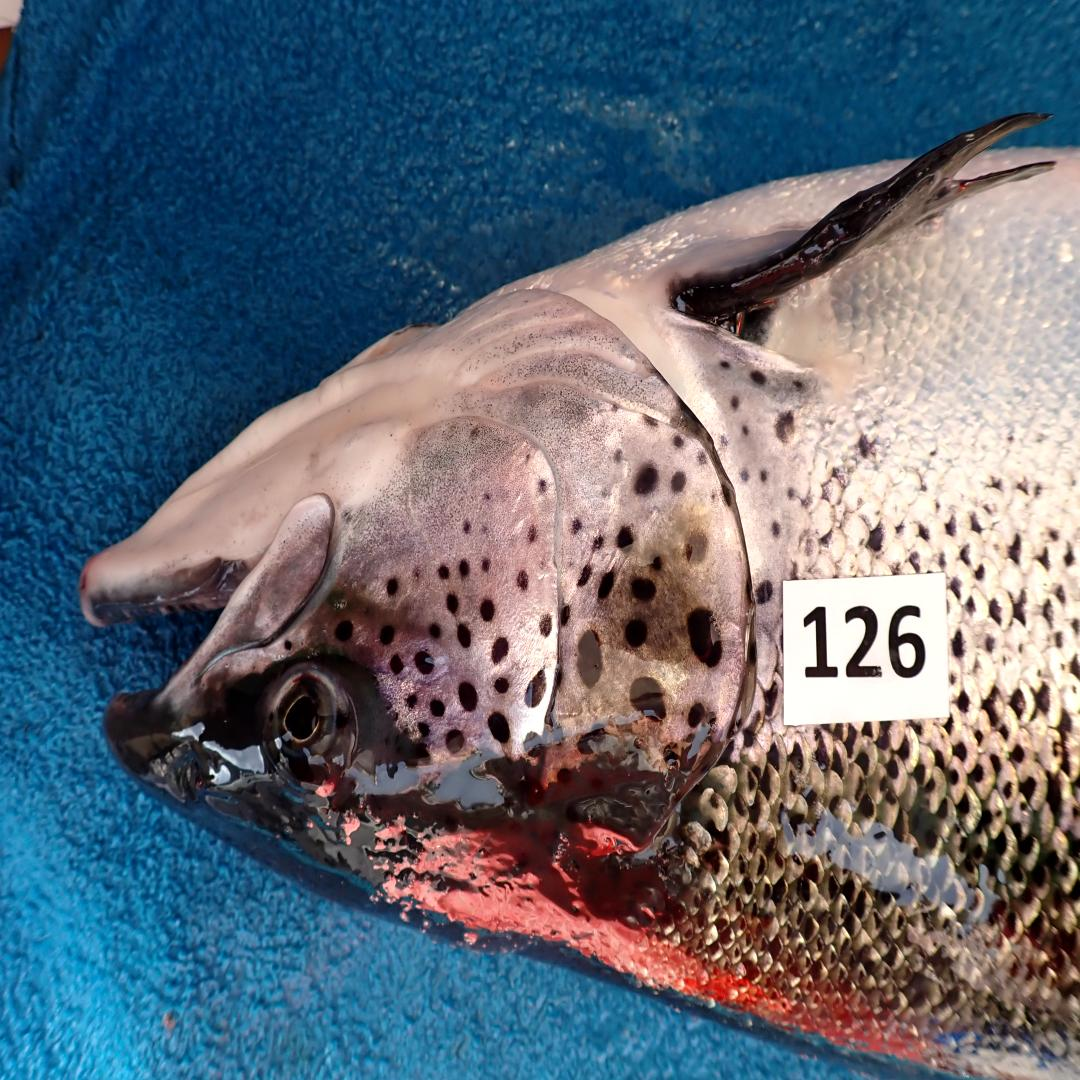roi: (328, 283, 751, 781)
